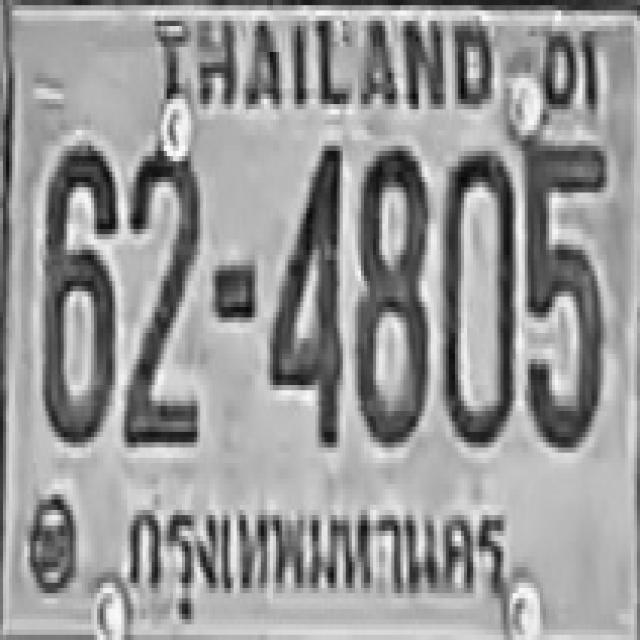0: (440, 146, 512, 442)
2: (123, 140, 199, 442)
4: (266, 140, 342, 442)
5: (522, 136, 604, 442)
6: (40, 138, 116, 440)
8: (354, 140, 426, 442)
Bangkok: (120, 489, 519, 610)
